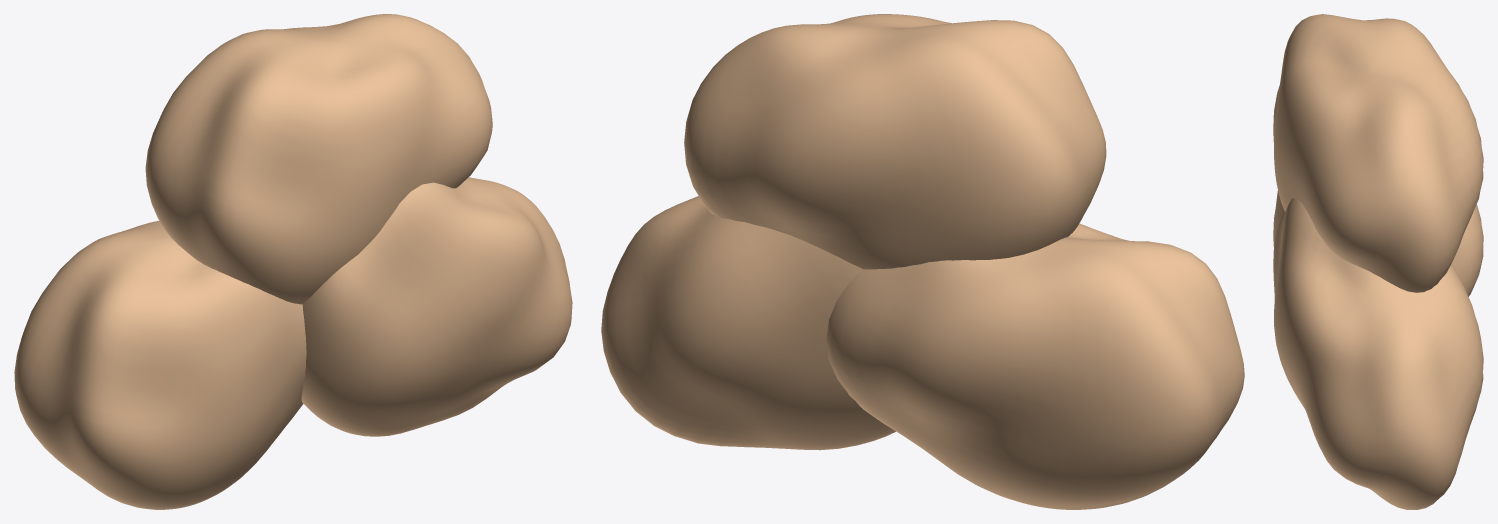
The model's file is Sand bags.fbx.
The picture shows the model from 3 angles, left to right: view 1: azimuth 30°, elevation 25°; view 2: azimuth 150°, elevation 25°; view 3: azimuth 270°, elevation 25°; orthographic projection. The views are drawn at different scales.
Visible parts, largest first — view 1: Sphere.001; view 2: Sphere.001; view 3: Sphere.001.
Part boxes in pixels (left/top/right/bottom): Sphere.001: left=14, top=14, right=572, bottom=509; Sphere.001: left=601, top=14, right=1244, bottom=509; Sphere.001: left=1273, top=14, right=1483, bottom=509.
Size of the model in its own units: 315 by 234 by 115.
